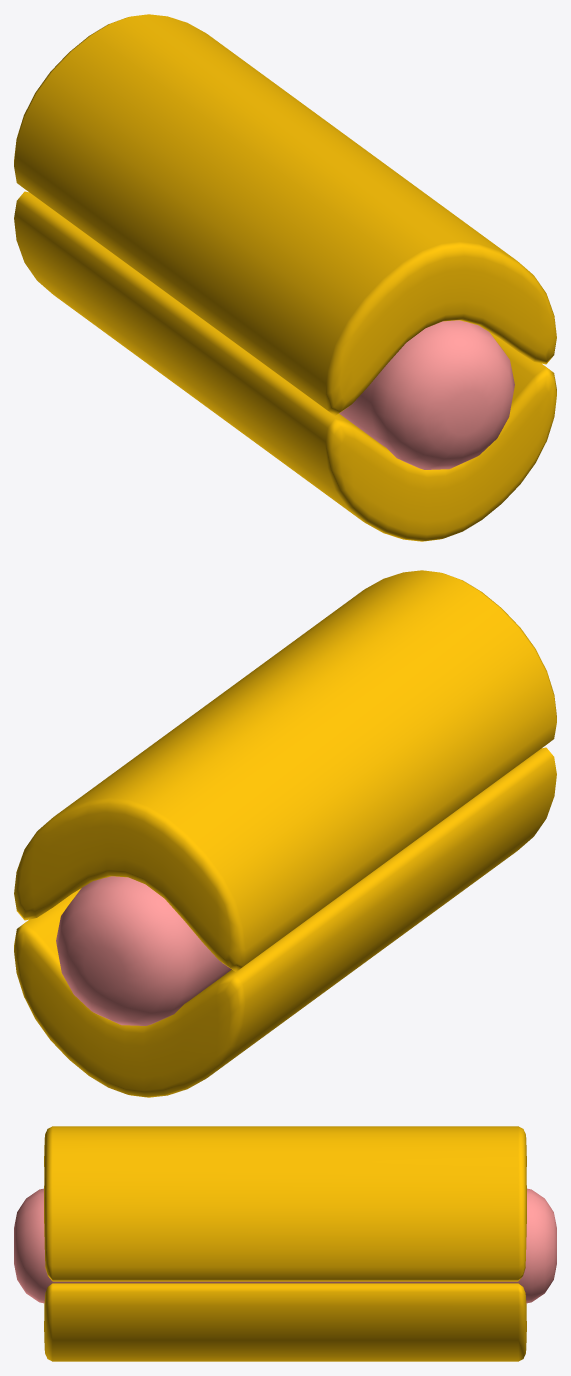
Rendered from City_3_Hot_Dog_1.glb.
3 renders of one model, top to bottom at view 1: azimuth 30°, elevation 25°; view 2: azimuth 150°, elevation 25°; view 3: azimuth 270°, elevation 25°, orthographic. The views are drawn at different scales.
Parts seen in each view (by area): view 1: City_3_Hot_Dog_1; view 2: City_3_Hot_Dog_1; view 3: City_3_Hot_Dog_1.
Boxes of the visible parts, bbox=[...] form: City_3_Hot_Dog_1: bbox=[14, 14, 556, 541]; City_3_Hot_Dog_1: bbox=[14, 570, 556, 1097]; City_3_Hot_Dog_1: bbox=[14, 1126, 556, 1361].
Size of the model in its own units: 0.1644 by 0.2002 by 0.4448.
1 material, 1 textured.
